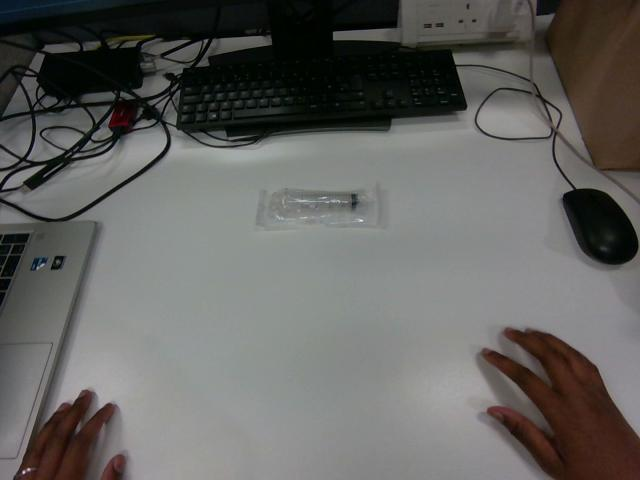syringe: (256, 185, 379, 229)
